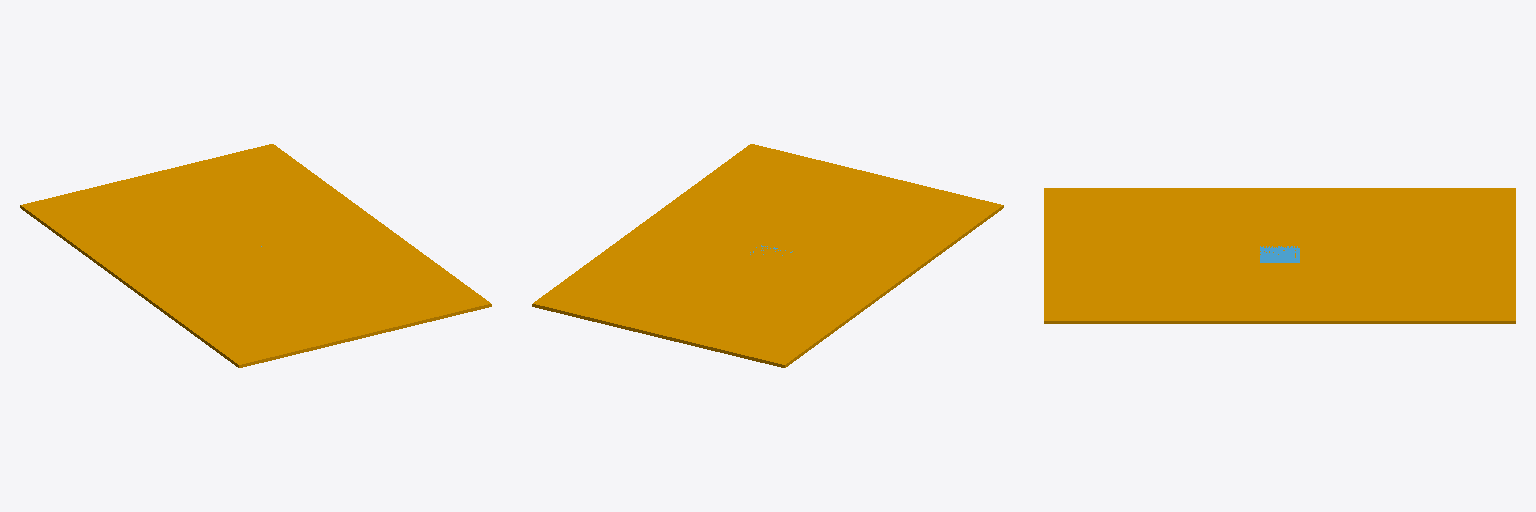
robot.urdf — panda:
<?xml version="1.0" ?>
<robot name="panda" xmlns:xacro="http://www.ros.org/wiki/xacro">
  <link name="basex">
    <visual>
      <origin xyz="0 0 -0.02"/>
      <geometry>
        <box size="0.8 1.2 0.01"/>
      </geometry>
    </visual>
  </link>
  <link name="basey">
    <visual>
      <origin xyz="0 0 -0.01"/>
      <geometry>
        <box size="0.1 0.1 0.01"/>
      </geometry>
    </visual>
  </link>
  <link name="panda_link0">
    <visual>
      <geometry>
        <mesh filename="package://franka_description/meshes/visual/link0.dae"/>
      </geometry>
    </visual>
    <collision>
      <geometry>
        <mesh filename="package://franka_description/meshes/collision/link0.obj"/>
      </geometry>
    </collision>
  </link>
  <link name="panda_link1">
    <visual>
      <geometry>
        <mesh filename="package://franka_description/meshes/visual/link1.dae"/>
      </geometry>
    </visual>
    <collision>
      <geometry>
        <mesh filename="package://franka_description/meshes/collision/link1.obj"/>
      </geometry>
    </collision>
  </link>
  <joint name="panda_joint1" type="revolute">
    <safety_controller k_position="100.0" k_velocity="40.0" soft_lower_limit="-2.8973" soft_upper_limit="2.8973"/>
    <origin rpy="0 0 0" xyz="0 0 0.333"/>
    <parent link="panda_link0"/>
    <child link="panda_link1"/>
    <axis xyz="0 0 1"/>
    <dynamics damping="10.0"/>
    <limit effort="87" lower="-2.8973" upper="2.8973" velocity="2.1750"/>
  </joint>
  <link name="panda_link2">
    <visual>
      <geometry>
        <mesh filename="package://franka_description/meshes/visual/link2.dae"/>
      </geometry>
    </visual>
    <collision>
      <geometry>
        <mesh filename="package://franka_description/meshes/collision/link2.obj"/>
      </geometry>
    </collision>
  </link>
  <joint name="panda_joint2" type="revolute">
    <safety_controller k_position="100.0" k_velocity="40.0" soft_lower_limit="-1.7628" soft_upper_limit="1.7628"/>
    <origin rpy="-1.57079632679 0 0" xyz="0 0 0"/>
    <parent link="panda_link1"/>
    <child link="panda_link2"/>
    <axis xyz="0 0 1"/>
    <dynamics damping="10.0"/>
    <limit effort="87" lower="-1.7628" upper="1.7628" velocity="2.1750"/>
  </joint>
  <link name="panda_link3">
    <visual>
      <geometry>
        <mesh filename="package://franka_description/meshes/visual/link3.dae"/>
      </geometry>
    </visual>
    <collision>
      <geometry>
        <mesh filename="package://franka_description/meshes/collision/link3.obj"/>
      </geometry>
    </collision>
  </link>
  <joint name="panda_joint3" type="revolute">
    <safety_controller k_position="100.0" k_velocity="40.0" soft_lower_limit="-2.8973" soft_upper_limit="2.8973"/>
    <origin rpy="1.57079632679 0 0" xyz="0 -0.316 0"/>
    <parent link="panda_link2"/>
    <child link="panda_link3"/>
    <axis xyz="0 0 1"/>
    <dynamics damping="10.0"/>
    <limit effort="87" lower="-2.8973" upper="2.8973" velocity="2.1750"/>
  </joint>
  <link name="panda_link4">
    <visual>
      <geometry>
        <mesh filename="package://franka_description/meshes/visual/link4.dae"/>
      </geometry>
    </visual>
    <collision>
      <geometry>
        <mesh filename="package://franka_description/meshes/collision/link4.obj"/>
      </geometry>
    </collision>
  </link>
  <joint name="panda_joint4" type="revolute">
    <safety_controller k_position="100.0" k_velocity="40.0" soft_lower_limit="-3.0718" soft_upper_limit="-0.0698"/>
    <origin rpy="1.57079632679 0 0" xyz="0.0825 0 0"/>
    <parent link="panda_link3"/>
    <child link="panda_link4"/>
    <axis xyz="0 0 1"/>    
    <dynamics damping="10.0"/>
    <limit effort="87" lower="-3.0718" upper="-0.0698" velocity="2.1750"/>
    <!-- something is weird with this joint limit config
    <dynamics damping="10.0"/>
    <limit effort="87" lower="-3.0" upper="0.087" velocity="2.1750"/>  -->
  </joint>
  <link name="panda_link5">
    <visual>
      <geometry>
        <mesh filename="package://franka_description/meshes/visual/link5.dae"/>
      </geometry>
    </visual>
    <collision>
      <geometry>
        <mesh filename="package://franka_description/meshes/collision/link5.obj"/>
      </geometry>
    </collision>
  </link>
  <joint name="panda_joint5" type="revolute">
    <safety_controller k_position="100.0" k_velocity="40.0" soft_lower_limit="-2.8973" soft_upper_limit="2.8973"/>
    <origin rpy="-1.57079632679 0 0" xyz="-0.0825 0.384 0"/>
    <parent link="panda_link4"/>
    <child link="panda_link5"/>
    <axis xyz="0 0 1"/>
    <dynamics damping="10.0"/>
    <limit effort="12" lower="-2.8973" upper="2.8973" velocity="2.6100"/>
  </joint>
  <link name="panda_link6">
    <visual>
      <geometry>
        <mesh filename="package://franka_description/meshes/visual/link6.dae"/>
      </geometry>
    </visual>
    <collision>
      <geometry>
        <mesh filename="package://franka_description/meshes/collision/link6.obj"/>
      </geometry>
    </collision>
  </link>
  <joint name="panda_joint6" type="revolute">
    <safety_controller k_position="100.0" k_velocity="40.0" soft_lower_limit="-0.0175" soft_upper_limit="3.7525"/>
    <origin rpy="1.57079632679 0 0" xyz="0 0 0"/>
    <parent link="panda_link5"/>
    <child link="panda_link6"/>
    <axis xyz="0 0 1"/>
    <dynamics damping="10.0"/>
    <limit effort="12" lower="-0.0175" upper="3.7525" velocity="2.6100"/>
    <!-- <dynamics damping="10.0"/>
    <limit effort="12" lower="-0.0873" upper="3.0" velocity="2.6100"/> -->
  </joint>
  <link name="panda_link7">
    <visual>
      <geometry>
        <mesh filename="package://franka_description/meshes/visual/link7.dae"/>
      </geometry>
    </visual>
    <collision>
      <geometry>
        <mesh filename="package://franka_description/meshes/collision/link7.obj"/>
      </geometry>
    </collision>
  </link>
  <joint name="panda_joint7" type="revolute">
    <safety_controller k_position="100.0" k_velocity="40.0" soft_lower_limit="-2.8973" soft_upper_limit="2.8973"/>
    <origin rpy="1.57079632679 0 0" xyz="0.088 0 0"/>
    <parent link="panda_link6"/>
    <child link="panda_link7"/>
    <axis xyz="0 0 1"/>
    <dynamics damping="10.0"/>
    <limit effort="12" lower="-2.8973" upper="2.8973" velocity="2.6100"/>
  </joint>
  <!--
  <link name="panda_link8"/>
  <joint name="panda_joint8" type="fixed">
    <origin rpy="0 0 0" xyz="0 0 0.107"/>
    <parent link="panda_link7"/>
    <child link="panda_link8"/>
    <axis xyz="0 0 0"/>
  </joint>
  Removing this joint seems to help with some stability things
  -->
  <joint name="panda_hand_joint" type="fixed">
    <!--
    <parent link="panda_link8"/>
    -->
    <parent link="panda_link7"/>
    <child link="panda_hand"/>
    <origin rpy="0 0 -0.785398163397" xyz="0 0 0.107"/>
    <!--
    <origin rpy="0 0 -0.785398163397" xyz="0 0 0"/>
    -->
  </joint>
  <link name="panda_hand">
    <visual>
      <geometry>
        <mesh filename="package://franka_description/meshes/visual/hand.dae"/>
      </geometry>
    </visual>
    <collision>
      <geometry>
        <mesh filename="package://franka_description/meshes/collision/hand.obj"/>
      </geometry>
    </collision>
  </link>
  <link name="panda_leftfinger">
    <visual>
      <geometry>
        <mesh filename="package://franka_description/meshes/visual/finger.dae"/>
      </geometry>
    </visual>
    <collision>
      <geometry>
        <mesh filename="package://franka_description/meshes/collision/finger.obj"/>
      </geometry>
    </collision>
  </link>
  <link name="panda_rightfinger">
    <visual>
      <origin rpy="0 0 3.14159265359" xyz="0 0 0"/>
      <geometry>
        <mesh filename="package://franka_description/meshes/visual/finger.dae"/>
      </geometry>
    </visual>
    <collision>
      <origin rpy="0 0 3.14159265359" xyz="0 0 0"/>
      <geometry>
        <mesh filename="package://franka_description/meshes/collision/finger.obj"/>
      </geometry>
    </collision>
  </link>
  <joint name="panda_finger_joint1" type="prismatic">
    <parent link="panda_hand"/>
    <child link="panda_leftfinger"/>
    <origin rpy="0 0 0" xyz="0 0 0.0584"/>
    <axis xyz="0 1 0"/>
    <dynamics damping="10.0"/>
    <limit effort="100" lower="0.0" upper="0.04" velocity="1.0"/>
  </joint>
  <joint name="panda_finger_joint2" type="prismatic">
    <parent link="panda_hand"/>
    <child link="panda_rightfinger"/>
    <origin rpy="0 0 0" xyz="0 0 0.0584"/>
    <axis xyz="0 -1 0"/>
    <dynamics damping="10.0"/>
    <limit effort="100" lower="0.0" upper="0.04" velocity="1.0"/>
    <mimic joint="panda_finger_joint1"/>
  </joint>
  <joint name="z_free_base1" type="prismatic">
    <origin rpy="0 0 0" xyz="0 0 -0.01"/>
    <parent link="basex"/>
    <child link="basey"/>
    <axis xyz="1 0 0"/>
    <dynamics damping="10.0"/>
    <limit effort="100" lower="-0.3" upper="0.3" velocity="1.0"/>
  </joint>
  <joint name="z_free_base2" type="prismatic">
    <origin rpy="0 0 0" xyz="0 0 0"/>
    <parent link="basey"/>
    <child link="panda_link0"/>
    <axis xyz="0 1 0"/>
    <dynamics damping="10.0"/>
    <limit effort="50" lower="-0.5" upper="0.5" velocity="0.3"/>
  </joint>
</robot>

--- What the picture shows (computed from the rendered views, not written in the file) ---
Views: 3 orthographic renders of the robot side by side, from view 1: azimuth 30°, elevation 25°; view 2: azimuth 150°, elevation 25°; view 3: azimuth 270°, elevation 25°.
Robot: panda — 13 links, 12 joints (7 revolute, 4 prismatic, 1 fixed); root link basex; default pose: joints at zero except 1 at the middle of their limits (panda_joint4 = -1.57).
Links seen in each view (by area): view 1: basex; view 2: basex; view 3: basex, basey.
Link boxes in pixels (box(x1,y1,x2,y2)): basex: box(20, 144, 491, 367); basex: box(532, 144, 1003, 367); basex: box(1044, 188, 1515, 323); basey: box(1260, 246, 1299, 262).
Size in the robot's own frame: 0.8 by 1.2 by 0.01 metres.
0 mesh visuals loaded from 10 distinct referenced files (none loaded); not drawn: 11 (reference not matched to a file when rendering).